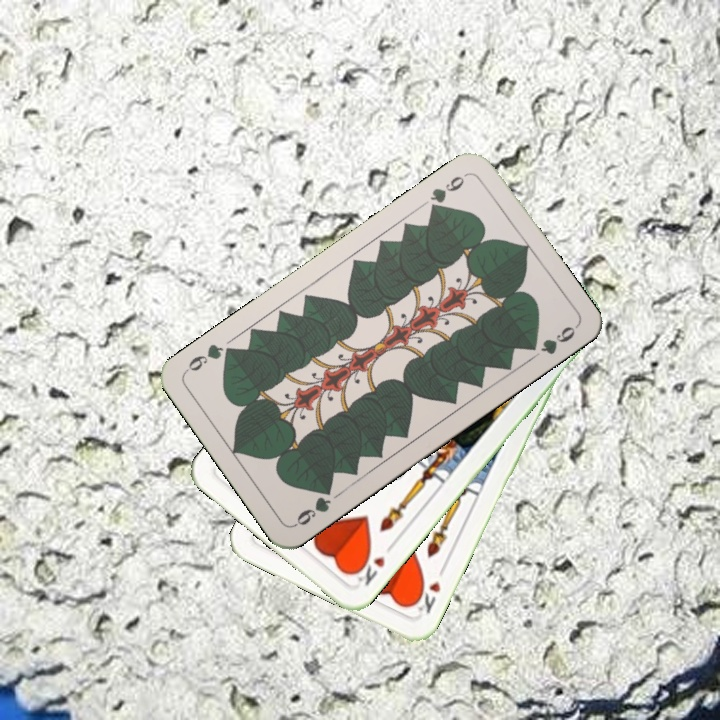G9: (290, 481, 335, 529), (425, 169, 470, 216)
HK: (349, 539, 397, 589), (409, 562, 449, 617)
